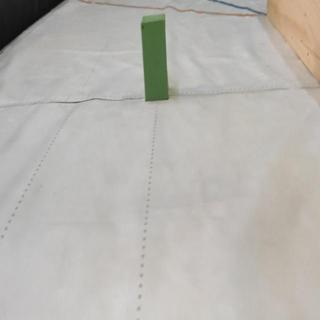greenbox: (142, 16, 169, 101)
